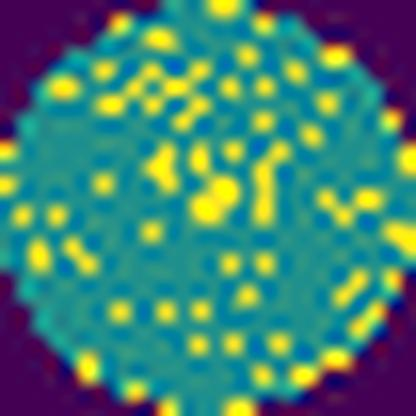Center: (185, 145, 287, 227)
